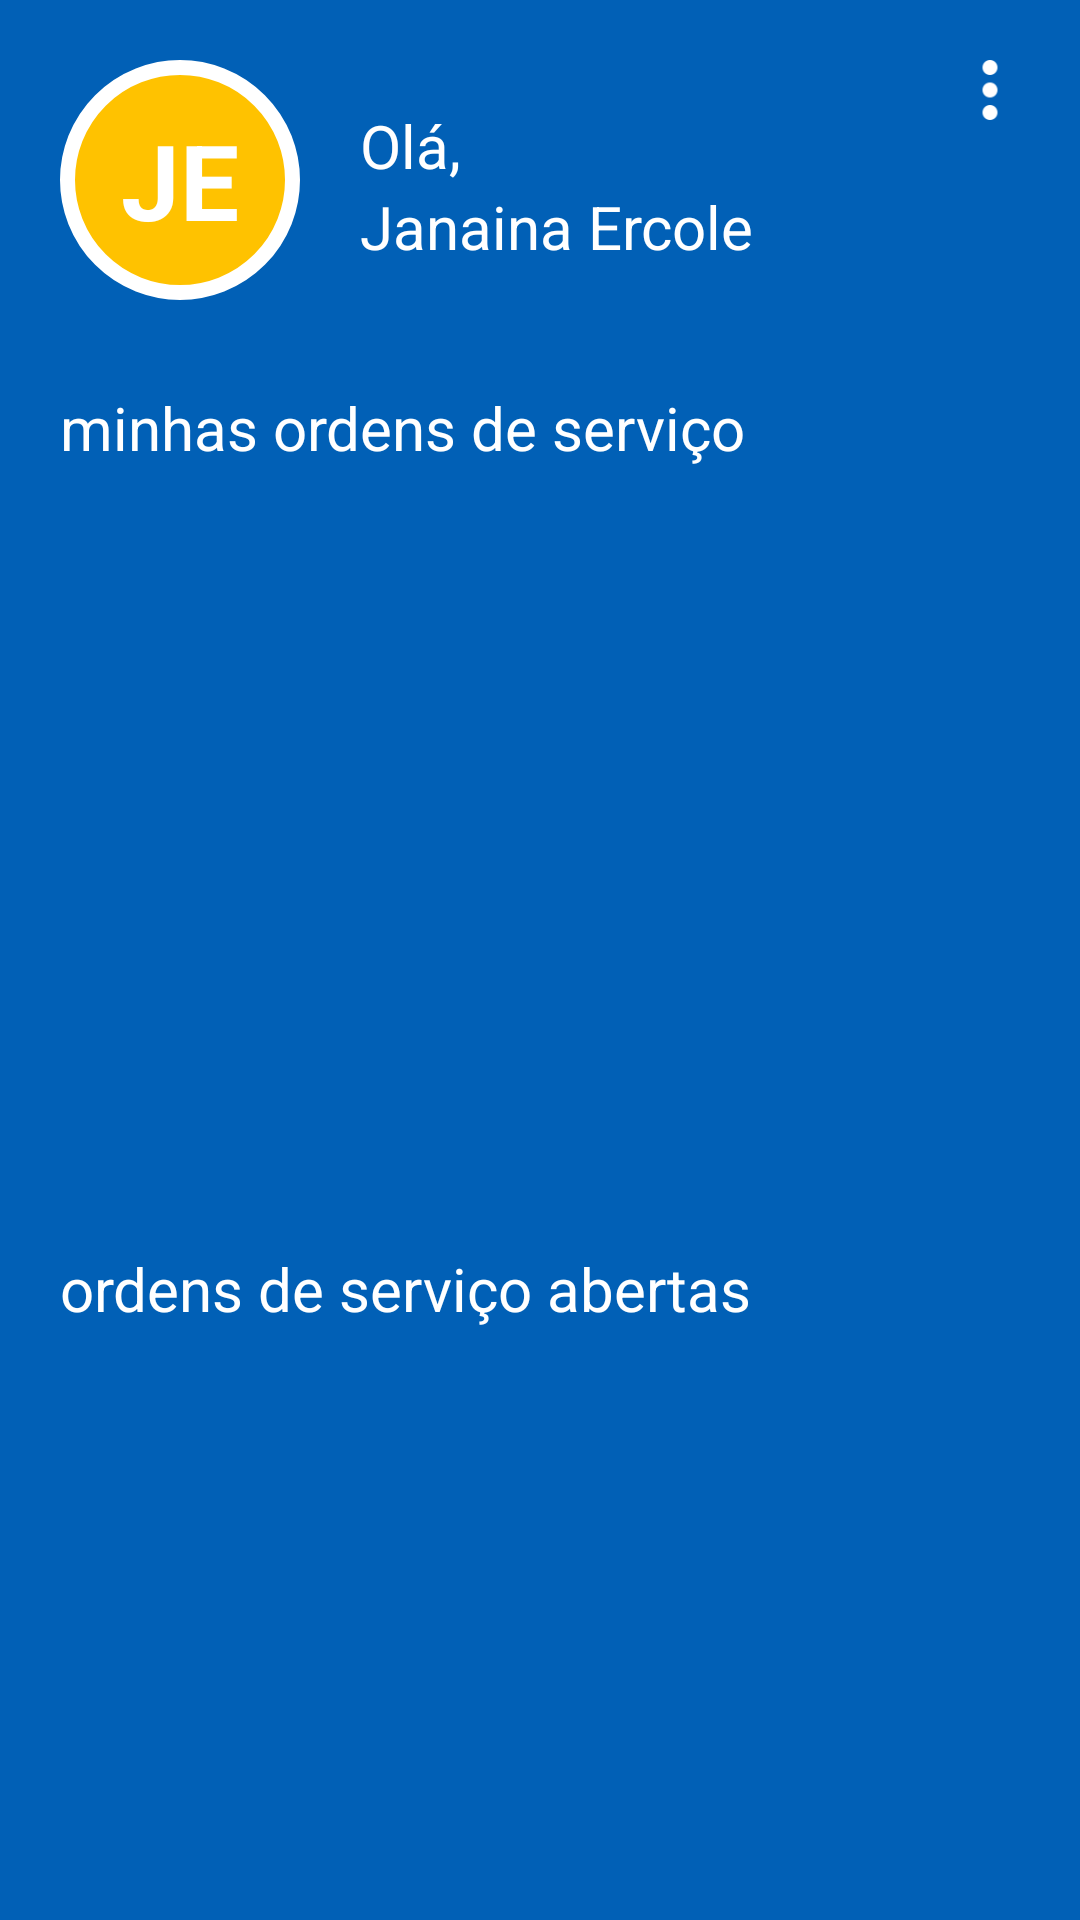

Icon bounding boxes for this 1080 x 1920 phone screenshot, format box=[x1, y1, x2, y2]:
container user: box=[60, 60, 300, 300]
menuopcoesbranco: box=[982, 60, 998, 120]
